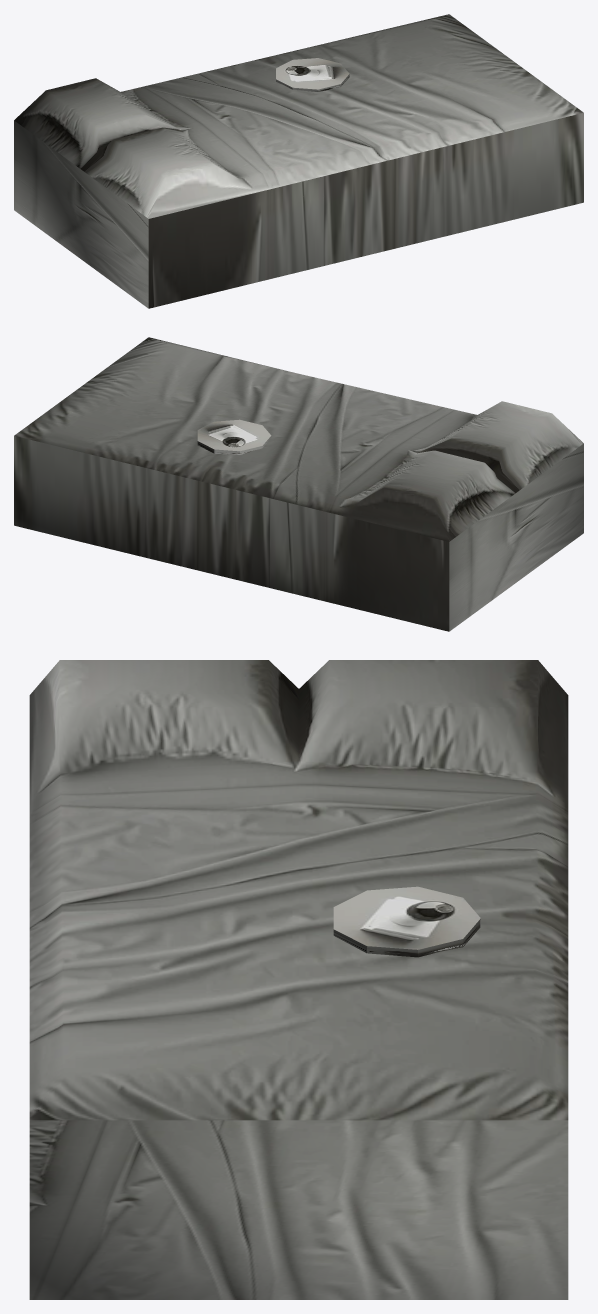
File: Bed.gltf
3 views of the same model, one above another, from view 1: azimuth 30°, elevation 25°; view 2: azimuth 150°, elevation 25°; view 3: azimuth 270°, elevation 25° (orthographic). The views are drawn at different scales.
Parts seen in each view (by area): view 1: Cube, Cylinder; view 2: Cube, Cylinder; view 3: Cube, Cylinder.
Part boxes in pixels (x1=…): Cube: x1=14, y1=14, x2=583, y2=308; Cylinder: x1=276, y1=58, x2=349, y2=91; Cube: x1=14, y1=337, x2=583, y2=631; Cylinder: x1=197, y1=419, x2=271, y2=454; Cube: x1=29, y1=660, x2=568, y2=1299; Cylinder: x1=333, y1=886, x2=480, y2=957.
Size of the model in its own units: 2.61 by 0.6852 by 1.4.
2 materials, 2 textured.
